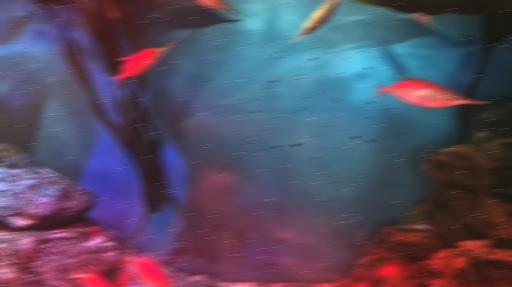Fish: (376, 75, 489, 107), (116, 41, 175, 88), (290, 0, 339, 43), (126, 253, 171, 286), (73, 267, 110, 286), (380, 264, 411, 286), (197, 0, 241, 14), (410, 13, 439, 29), (104, 0, 119, 19), (356, 282, 367, 286)
